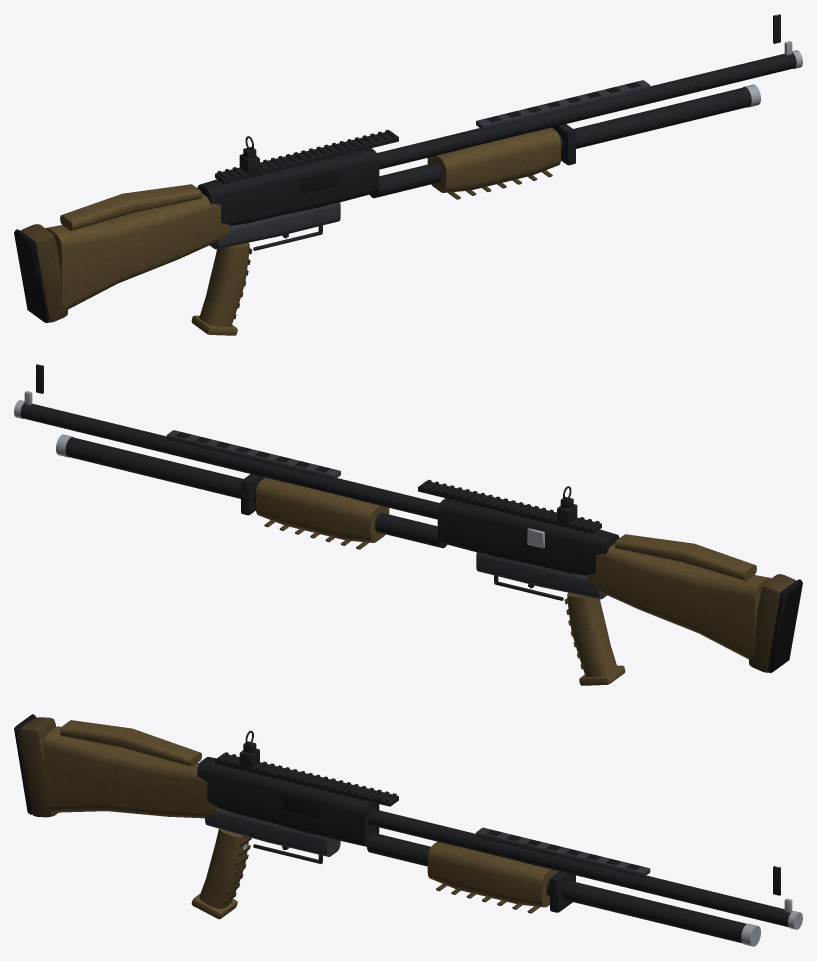
The picture shows the model from 3 angles, top to bottom: view 1: azimuth 30°, elevation 25°; view 2: azimuth 150°, elevation 25°; view 3: azimuth 330°, elevation 25°; orthographic projection.
Parts seen in each view (by area): view 1: sg4_body, sg4_stock, iron_sights; view 2: sg4_body, sg4_stock, iron_sights; view 3: sg4_body, sg4_stock, iron_sights.
Boxes of the visible parts, bbox=[...] form: sg4_body: bbox=[191, 41, 802, 335]; sg4_stock: bbox=[14, 184, 229, 323]; iron_sights: bbox=[239, 14, 780, 173]; sg4_body: bbox=[14, 391, 625, 685]; sg4_stock: bbox=[587, 534, 802, 673]; iron_sights: bbox=[36, 364, 577, 523]; sg4_body: bbox=[191, 752, 802, 946]; sg4_stock: bbox=[14, 714, 217, 818]; iron_sights: bbox=[239, 730, 780, 895].
Size of the model in its own units: 1.02 by 0.2348 by 0.05.
Materials: 8 (3 with a texture image).
